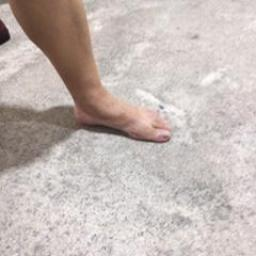Medial View -Left Foot-: (54, 70, 175, 150)
